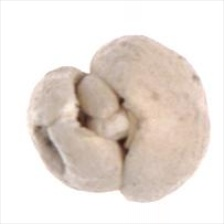L3: (71, 65, 137, 157)
L4: (28, 34, 210, 204)
